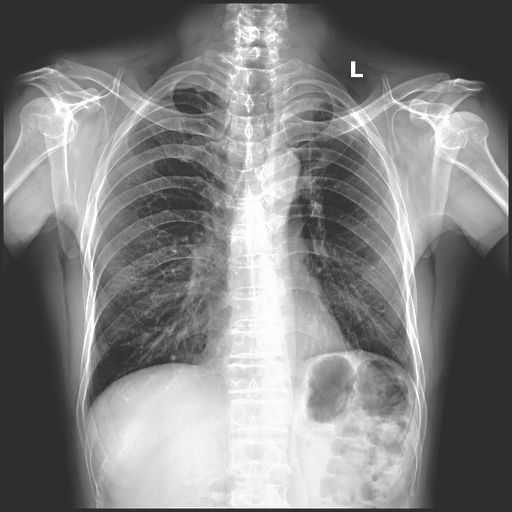Calcification: (151, 79, 201, 99), (296, 91, 342, 103)
Consolidation: (264, 151, 300, 185)
